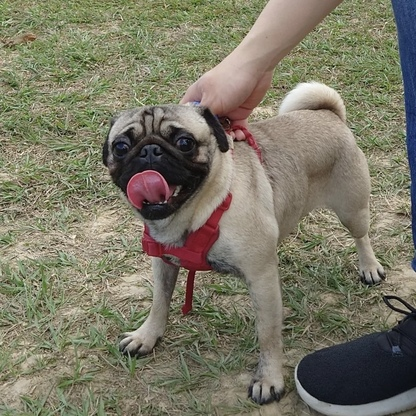Pug: (99, 78, 392, 408)
